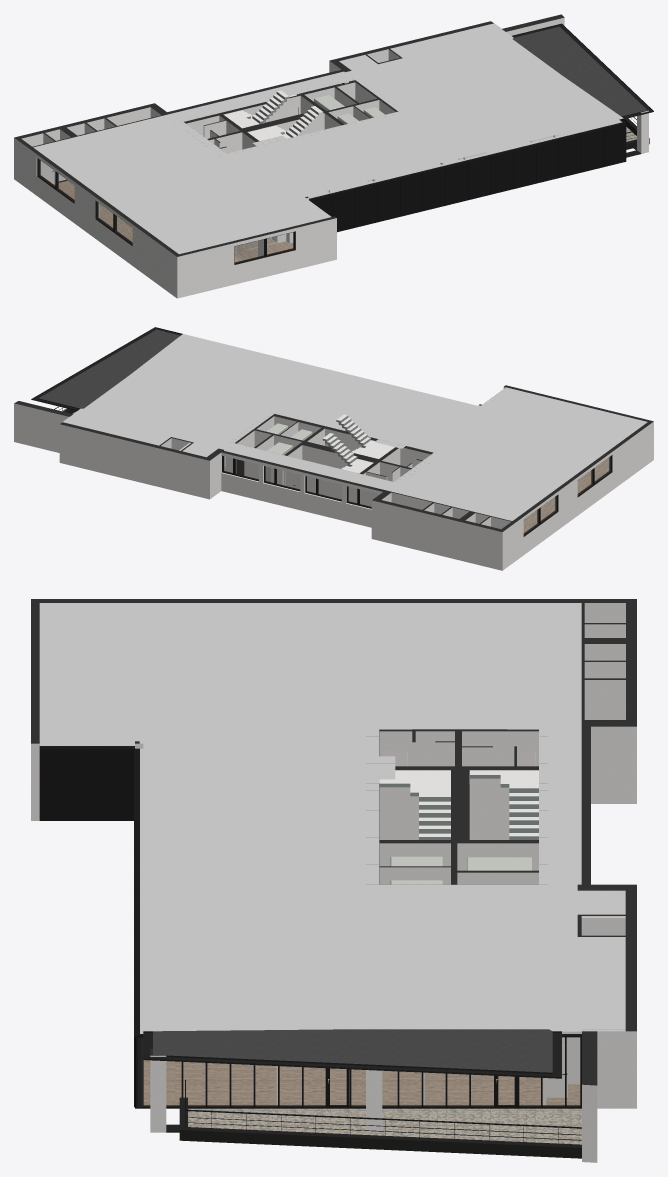
The model's file is Blinds_Dacia.glb.
The picture shows the model from 3 angles, top to bottom: view 1: azimuth 30°, elevation 25°; view 2: azimuth 150°, elevation 25°; view 3: azimuth 270°, elevation 25°; orthographic projection. The views are drawn at different scales.
Visible parts, largest first — view 1: Ceiling, Walls, Walls.001, Walls_Ext, Floor, Ceiling_Margin, Blind.006, Blind.008, Blind.011, Blind.013, Blind.004, Blind.007 (+8 smaller); view 2: Ceiling, Walls, Walls.001, Walls_Ext, Floor; view 3: Ceiling, Walls, Walls.001, Floor, Parapet, Walls_Ext, Blind, Blind.001, WallsFit, Ceiling_Margin.
Boxes of the visible parts, x1=… form: Ceiling: x1=33, y1=23, x2=653, y2=254; Walls: x1=14, y1=14, x2=648, y2=298; Walls.001: x1=184, y1=80, x2=397, y2=153; Walls_Ext: x1=37, y1=83, x2=625, y2=264; Floor: x1=53, y1=127, x2=636, y2=262; Ceiling_Margin: x1=307, y1=119, x2=621, y2=198; Blind.006: x1=400, y1=173, x2=422, y2=216; Blind.008: x1=445, y1=162, x2=467, y2=205; Blind.011: x1=513, y1=145, x2=535, y2=188; Blind.013: x1=558, y1=134, x2=580, y2=177; Blind.004: x1=354, y1=184, x2=376, y2=227; Blind.007: x1=422, y1=167, x2=444, y2=210; Ceiling: x1=31, y1=327, x2=647, y2=520; Walls: x1=14, y1=329, x2=653, y2=570; Walls.001: x1=225, y1=414, x2=433, y2=506; Walls_Ext: x1=222, y1=455, x2=612, y2=536; Floor: x1=73, y1=412, x2=608, y2=532; Ceiling: x1=39, y1=603, x2=625, y2=1078; Walls: x1=31, y1=599, x2=636, y2=1162; Walls.001: x1=379, y1=729, x2=538, y2=884; Floor: x1=143, y1=1060, x2=581, y2=1144; Parapet: x1=166, y1=1079, x2=581, y2=1158; Walls_Ext: x1=39, y1=746, x2=581, y2=1108; Blind: x1=40, y1=749, x2=87, y2=820; Blind.001: x1=87, y1=749, x2=133, y2=820; WallsFit: x1=39, y1=729, x2=581, y2=1105; Ceiling_Margin: x1=40, y1=741, x2=332, y2=1033.
Bounding box in the file's own units: 43.2 × 4.57 × 22.74.
39 materials, 20 textured.
